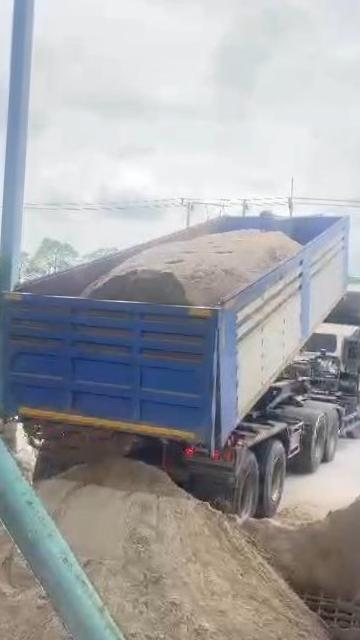sand: (41, 459, 344, 640), (83, 230, 300, 305), (0, 500, 111, 640), (241, 483, 360, 605), (25, 419, 135, 482)
